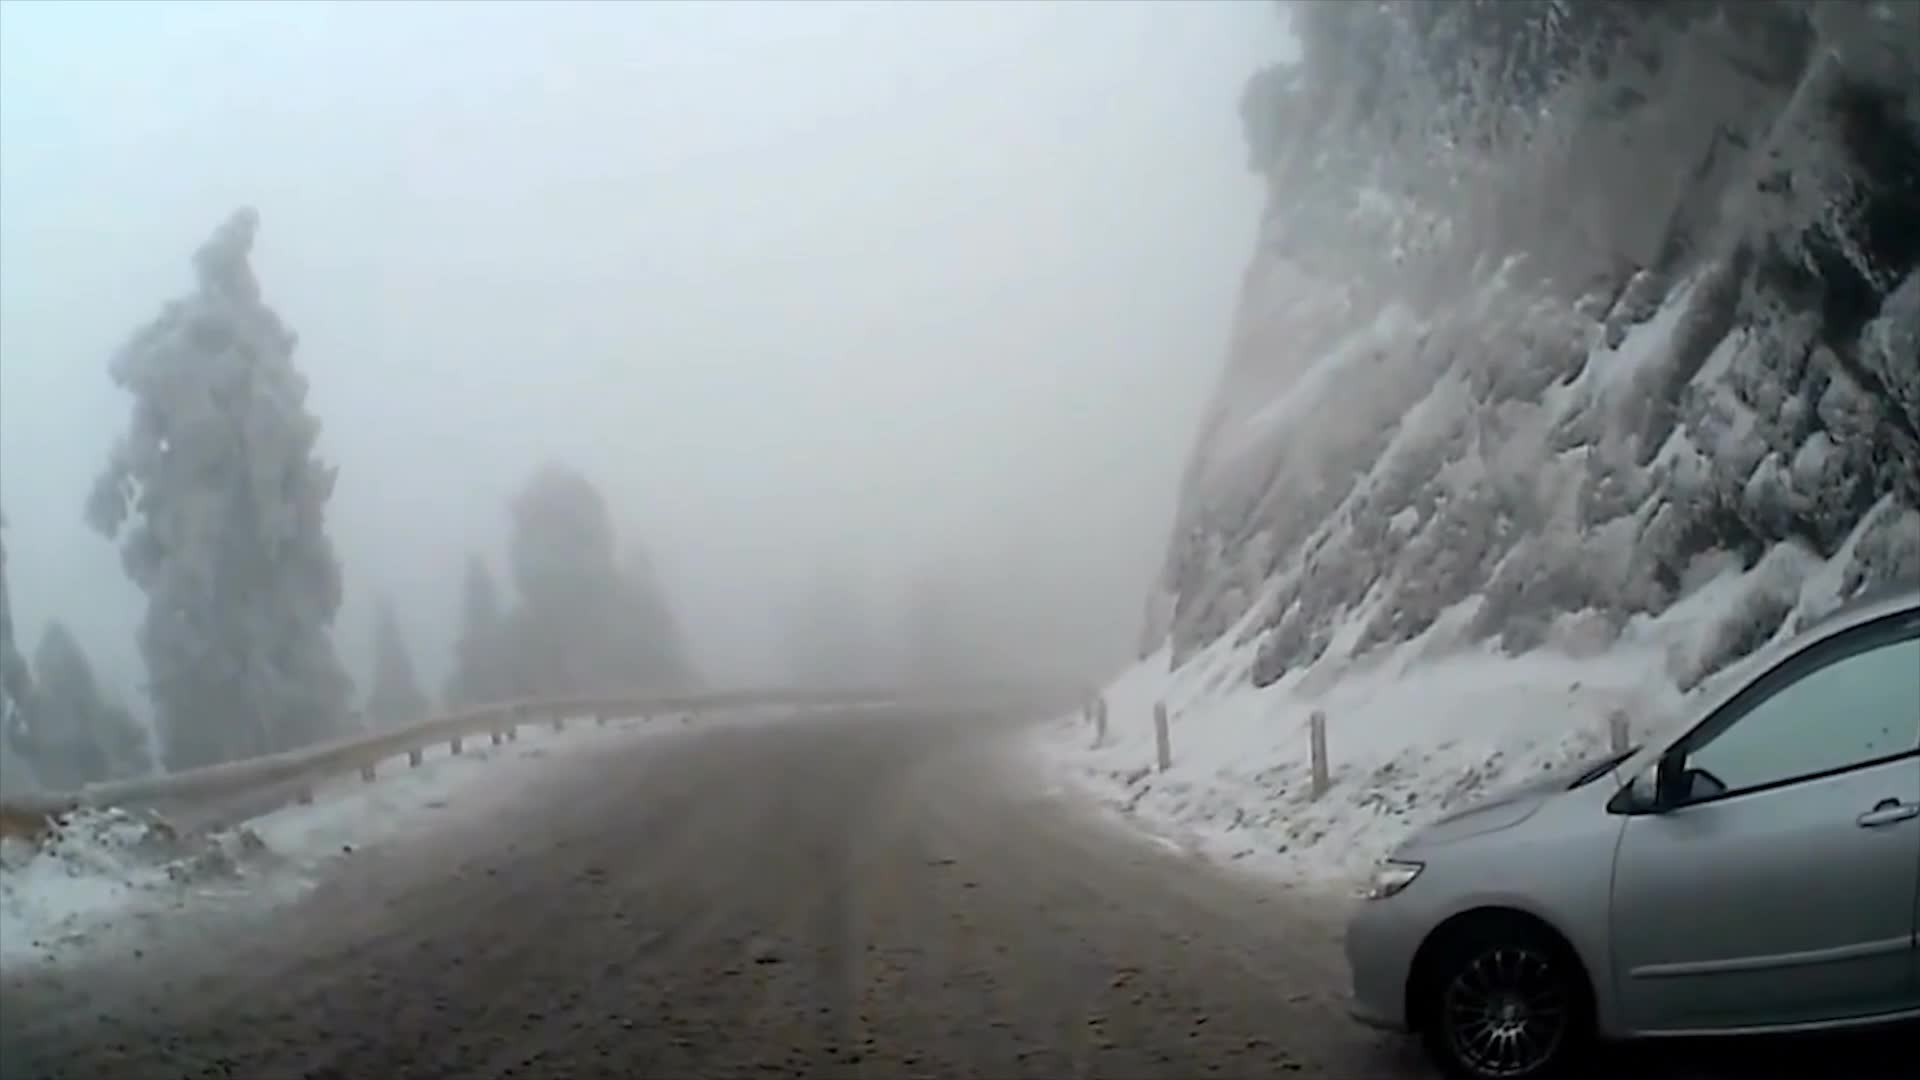vehicle: (1340, 570, 1920, 1080)
